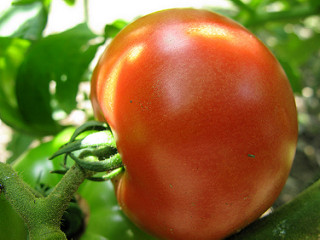tomato: (93, 6, 298, 240)
